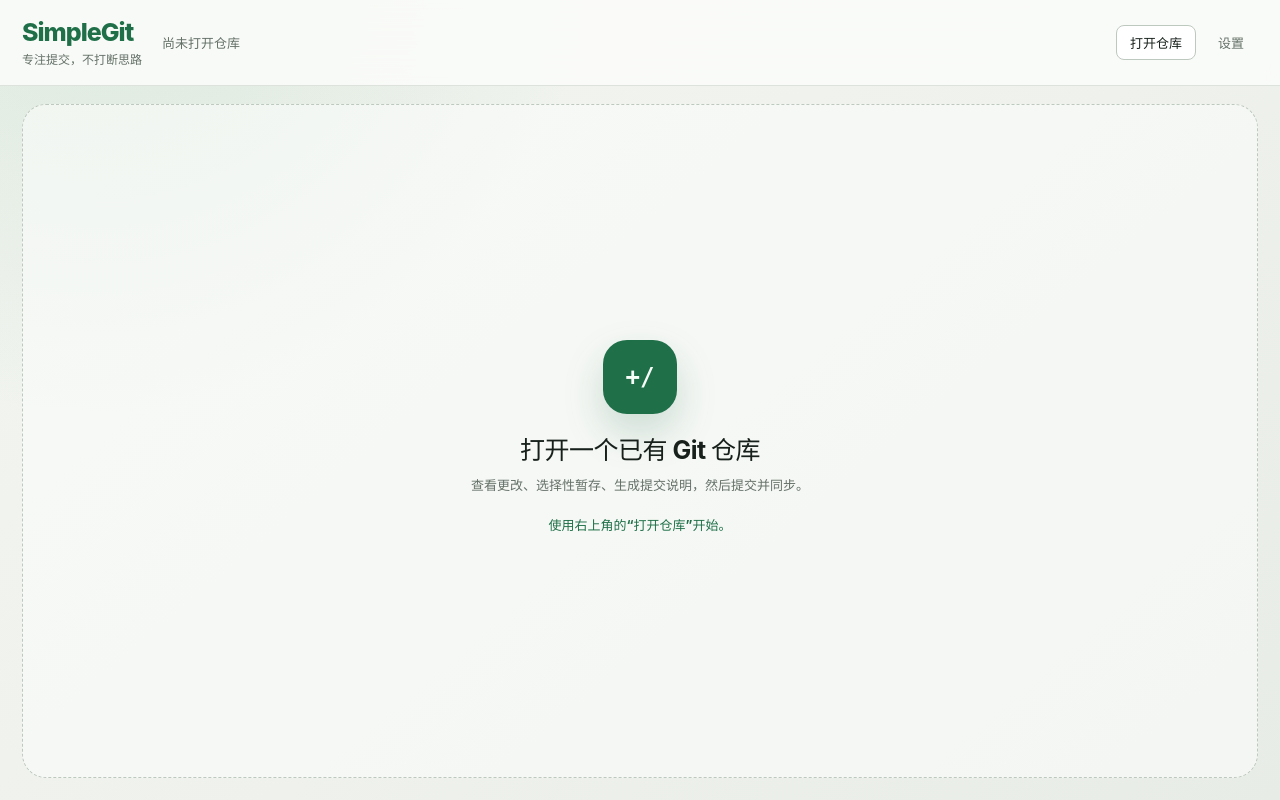
Test: SimpleGit main workspace › opens a file diff in a preview dialog
Click the button "打开仓库" at (1156, 42), box [1116, 25, 1196, 60]
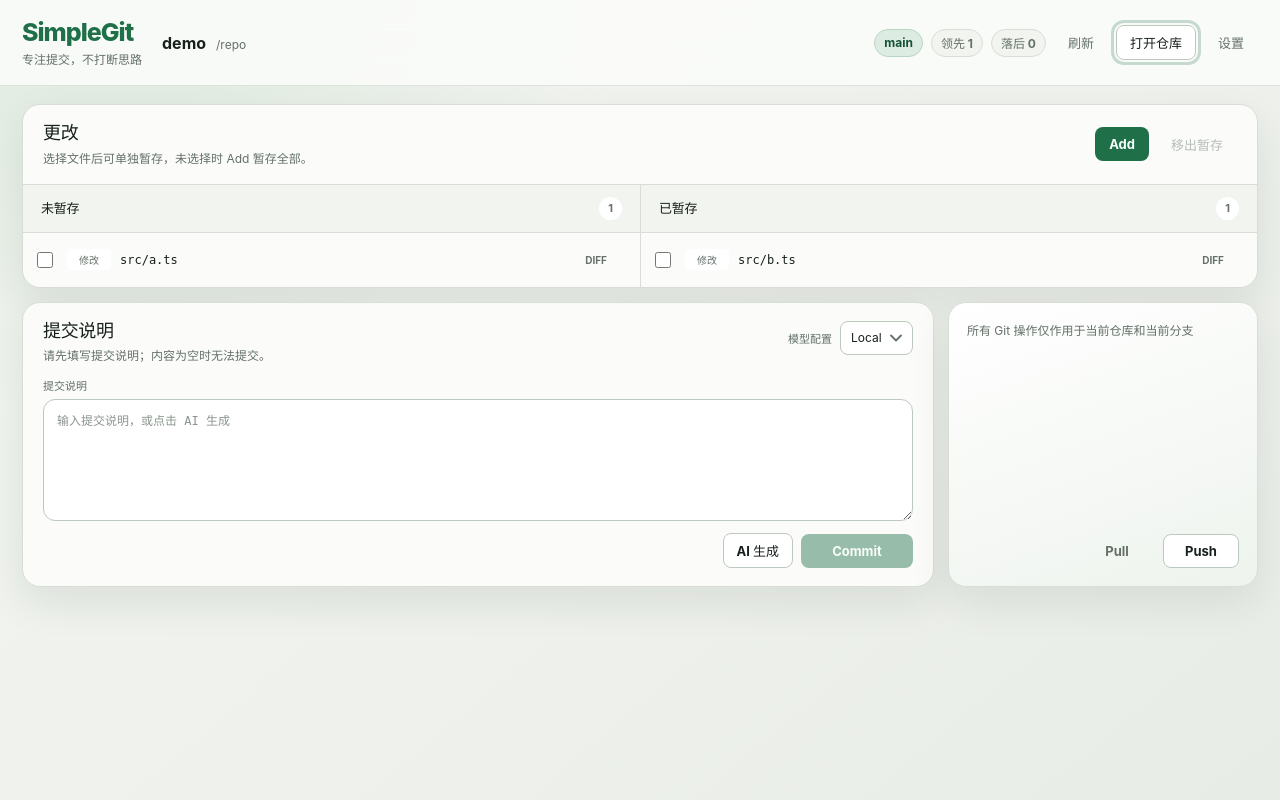
Expected: the text "demo" is shown, [162, 32, 206, 52]
Click the button with aria-label "查看 src/a.ts 的未暂存 diff" at (596, 260), box [576, 249, 616, 271]
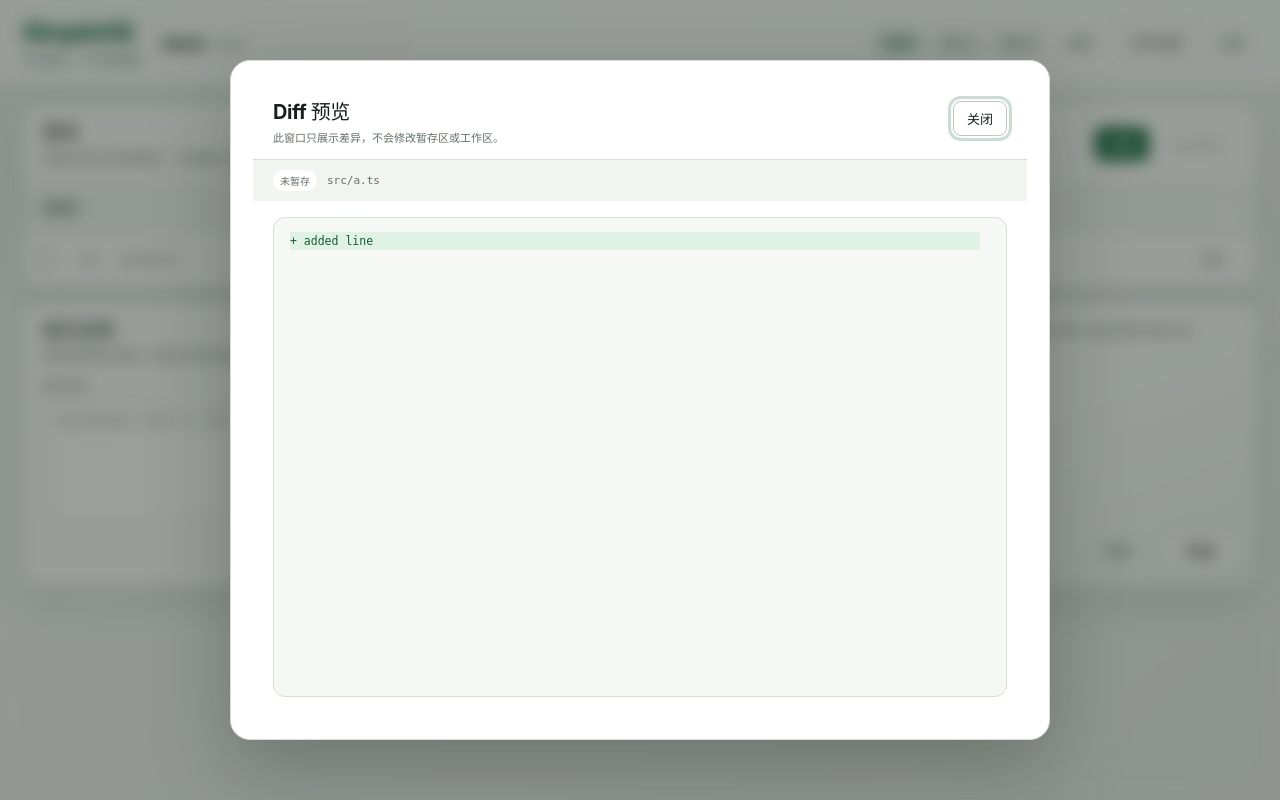
Expected: the dialog "Diff 预览" is shown, [230, 60, 1050, 740]
Expected: the text "+ added line" is shown, [290, 232, 980, 250]
Click the button "关闭" at (980, 118), box [953, 101, 1007, 136]
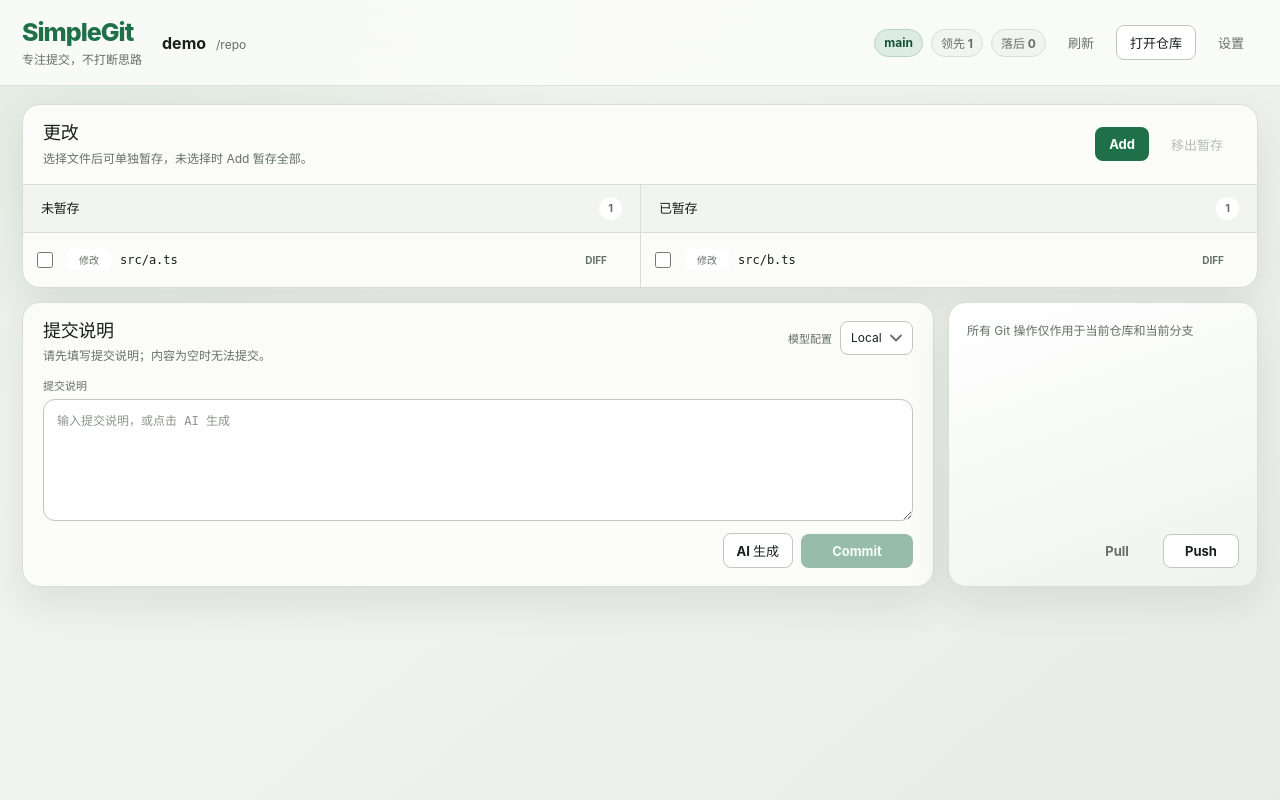
Expected: the heading "Diff 预览" is gone
